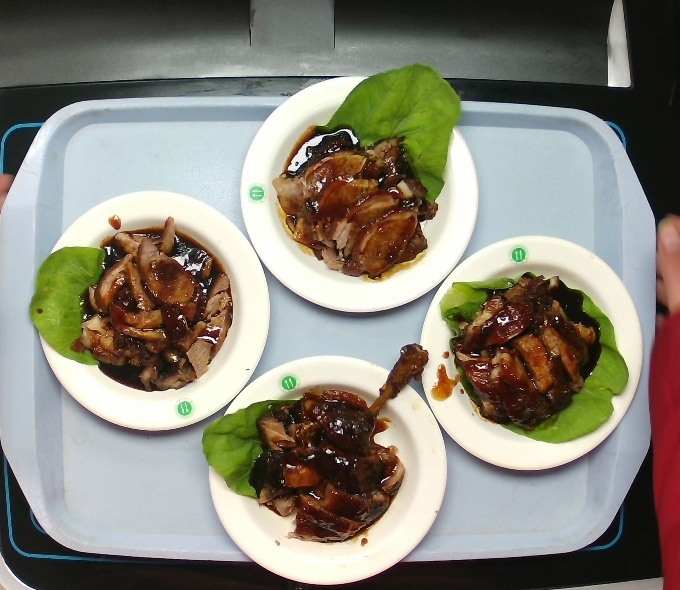wcq-MiZhiYa: (426, 267, 627, 444), (44, 213, 233, 399), (275, 88, 445, 282), (218, 377, 412, 538)
